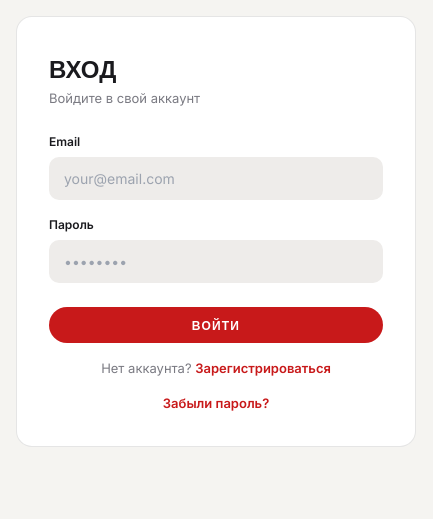
it: LoginPage › shows error on failed login
In the field with placeholder "your@email.com": (216, 178) x1=49 y1=156 x2=383 y2=200, type "test@test.com"
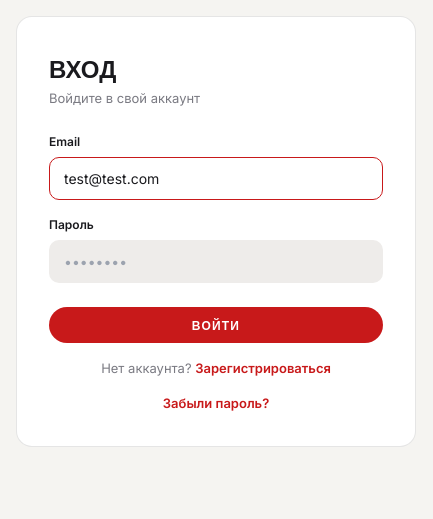
In the password field with placeholder "••••••••": (216, 261) x1=49 y1=240 x2=383 y2=282, type "wrong"
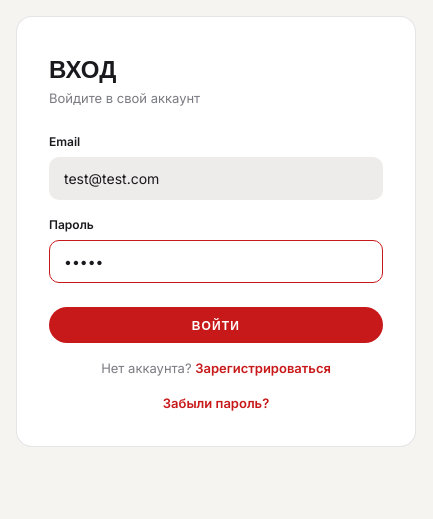
Click the button "Войти": (216, 324) x1=49 y1=306 x2=383 y2=342
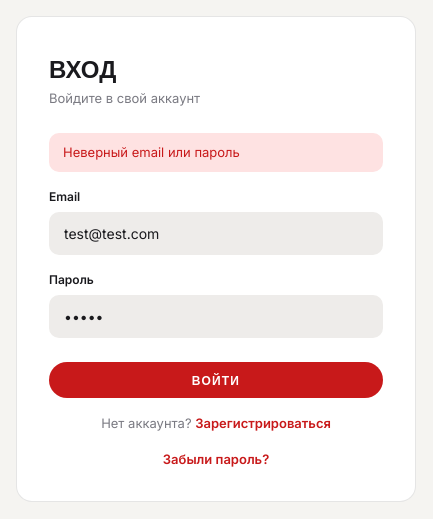
Expected: the text "Неверный email или пароль" is shown, x1=49 y1=132 x2=383 y2=172
